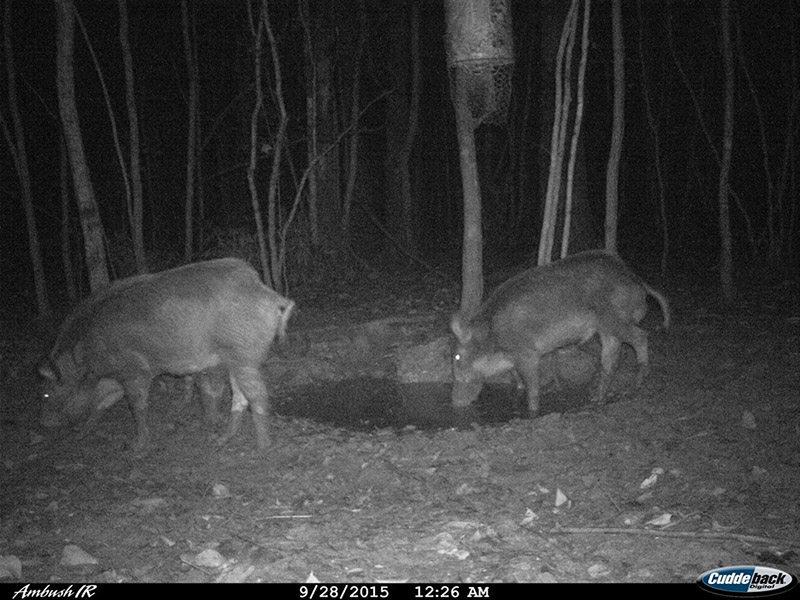cinghiale: (23, 253, 297, 429), (439, 237, 674, 416)
